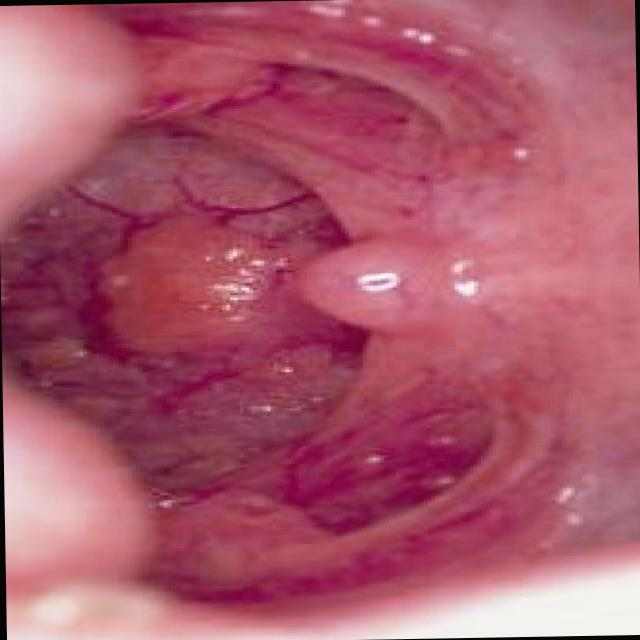Non Pharyngitis: (82, 194, 282, 373), (148, 484, 398, 600), (108, 21, 272, 140)
